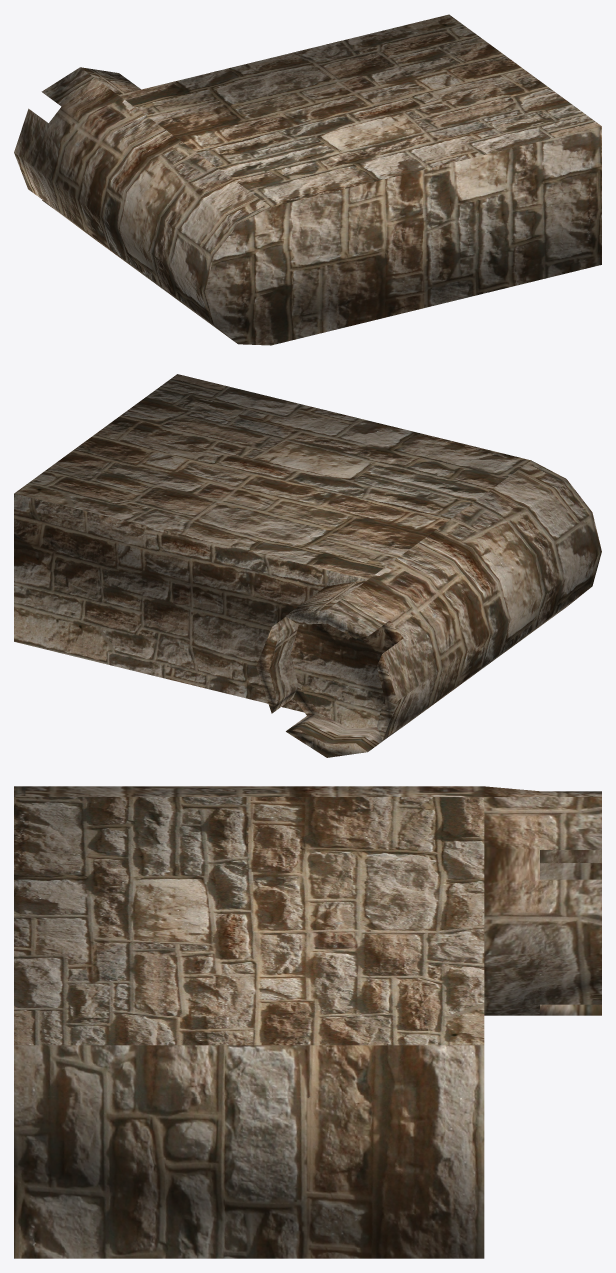
The model's file is wall turret textured.fbx.
3 views of the same model, one above another, from view 1: azimuth 30°, elevation 25°; view 2: azimuth 150°, elevation 25°; view 3: azimuth 270°, elevation 25° (orthographic). The views are drawn at different scales.
Visible parts, largest first — view 1: turret; view 2: turret; view 3: turret.
Boxes of the visible parts, box(x1,y1,x2,y2) form: turret: box(14, 14, 601, 345); turret: box(14, 374, 601, 757); turret: box(14, 786, 601, 1258).
Bounding box in the file's own units: 6 × 2 × 5.
